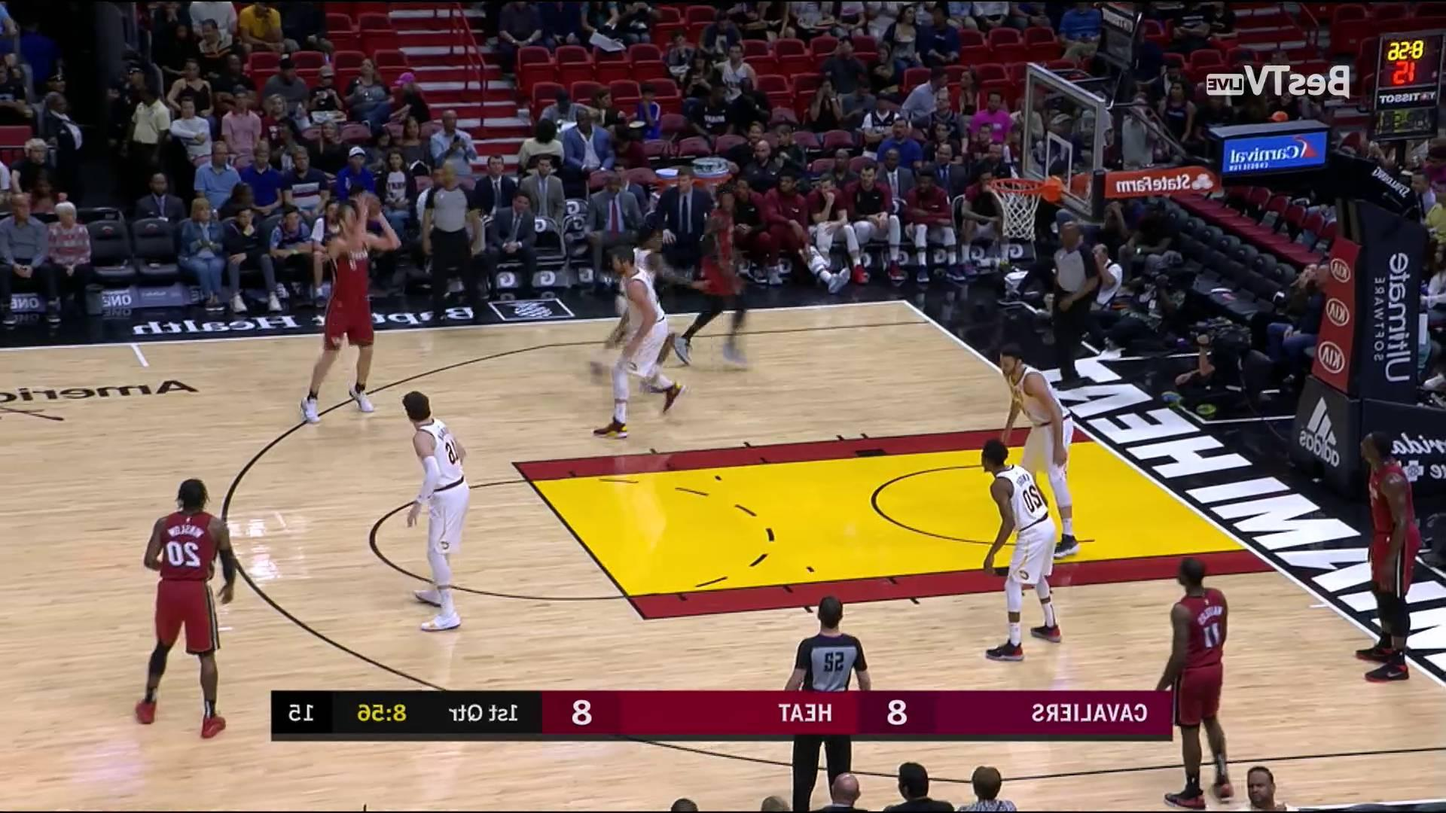basketball: (352, 188, 384, 217)
